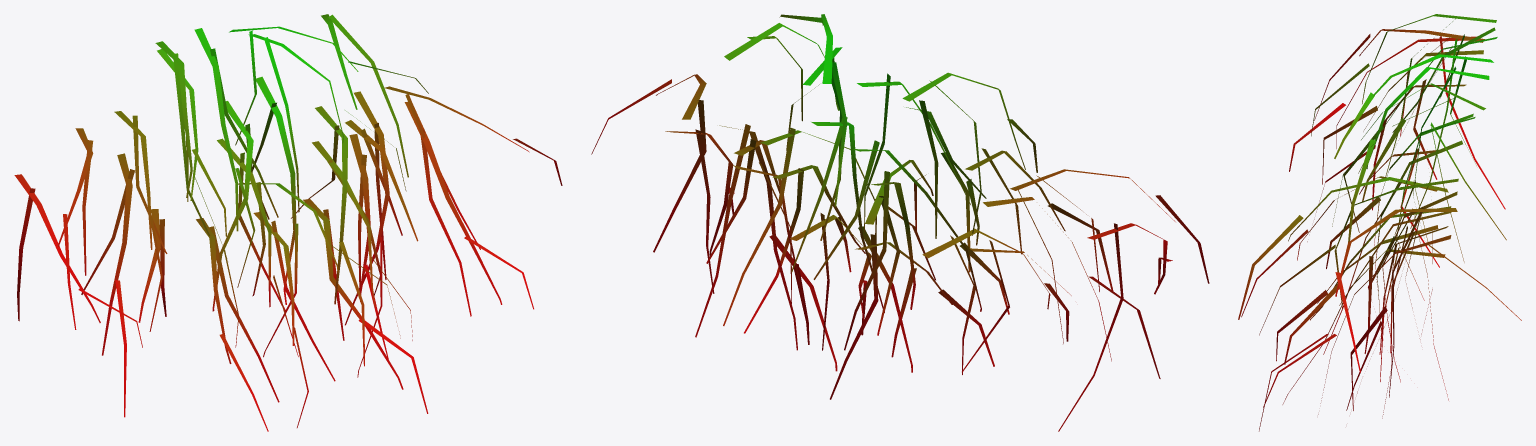
Rendered from Var14_LOD5.fbx.
3 views of the same model, side by side, from view 1: azimuth 30°, elevation 25°; view 2: azimuth 150°, elevation 25°; view 3: azimuth 270°, elevation 25° (orthographic). The views are drawn at different scales.
Parts seen in each view (by area): view 1: _hx8r_Var14_LOD5; view 2: _hx8r_Var14_LOD5; view 3: _hx8r_Var14_LOD5.
Boxes of the visible parts, box(x1,y1,x2,y2) form: _hx8r_Var14_LOD5: box(14, 14, 562, 431); _hx8r_Var14_LOD5: box(591, 14, 1209, 431); _hx8r_Var14_LOD5: box(1238, 14, 1521, 431).
Size of the model in its own units: 105 by 67.22 by 49.41.
